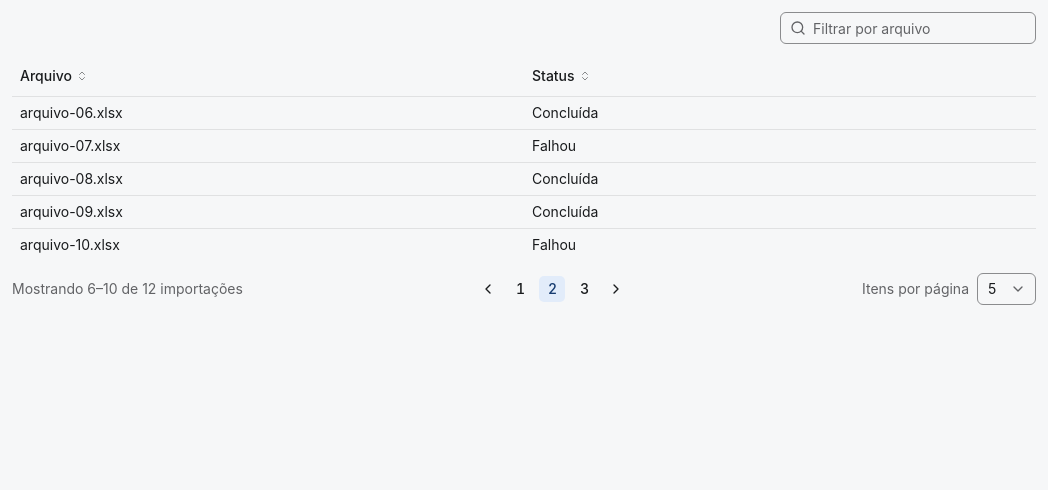
Test: DataTable — pagination, filter and URL state › changes the page size and goes back to the first page
Select "10" in the dropdown labelled "Itens por página" at {"x": 1006, "y": 288}, box top-left (977, 272), bottom-right (1036, 304)
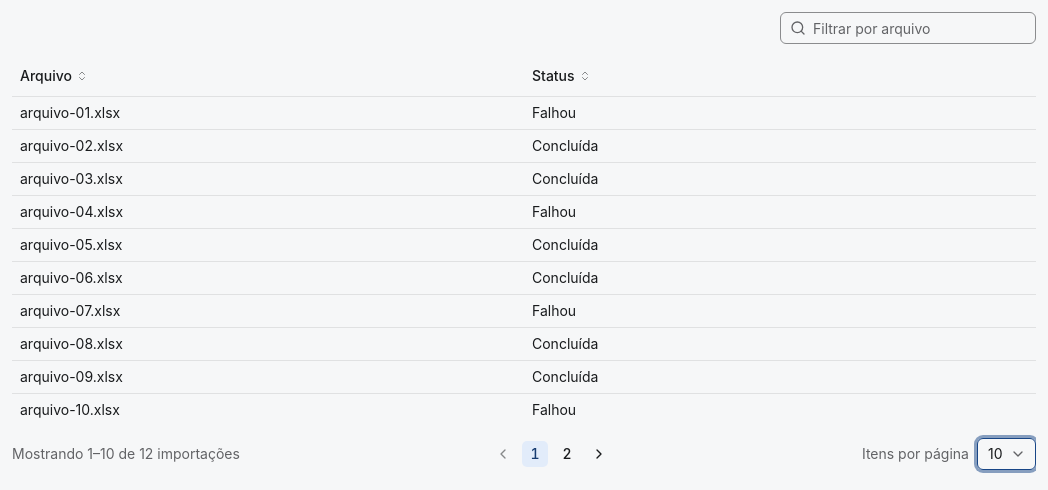
Now the text "Mostrando 1–10 de 12 importações" is shown, box top-left (12, 444), bottom-right (240, 464)
